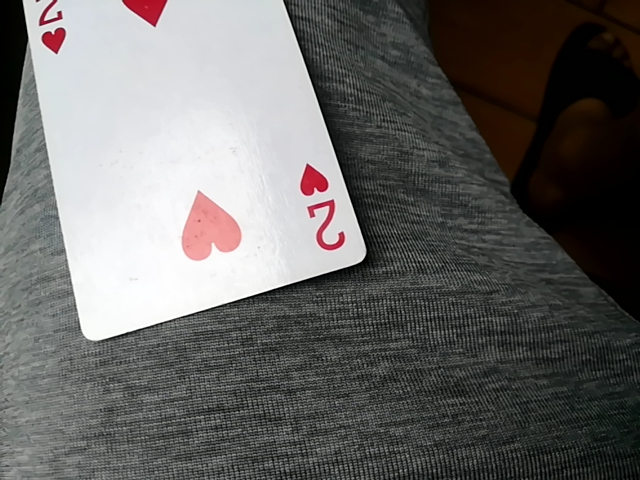hx 2: (23, 1, 368, 343)
